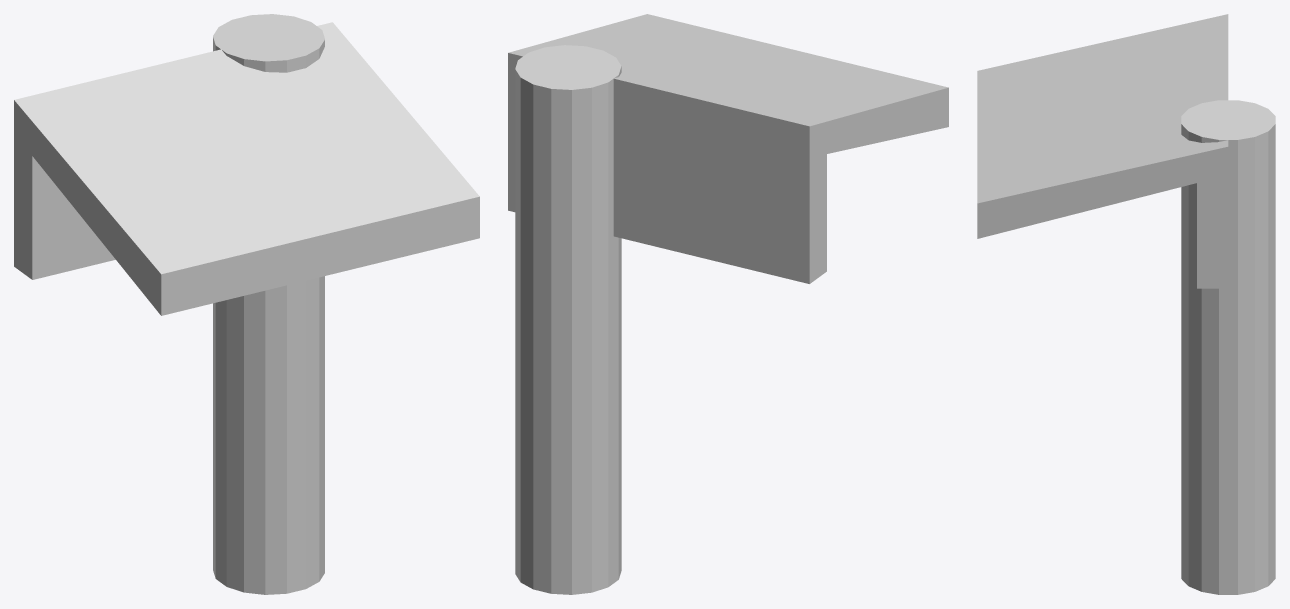
Rendered from dc_metrobus_roof_4e.obj.
3 views of the same model, side by side, from view 1: azimuth 30°, elevation 25°; view 2: azimuth 150°, elevation 25°; view 3: azimuth 270°, elevation 25° (orthographic). The views are drawn at different scales.
Parts seen in each view (by area): view 1: part4e; view 2: part4e; view 3: part4e.
Boxes of the visible parts, x1=… form: part4e: x1=14, y1=14, x2=479, y2=594; part4e: x1=508, y1=14, x2=948, y2=594; part4e: x1=977, y1=14, x2=1275, y2=594.
Size of the model in its own units: 0.625 by 1 by 0.5938.
Materials: 1 (1 with a texture image).
